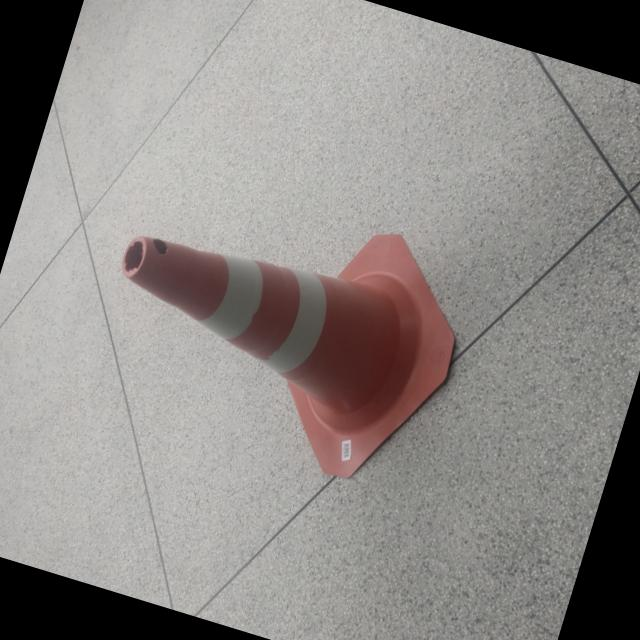cone: (68, 165, 480, 516)
